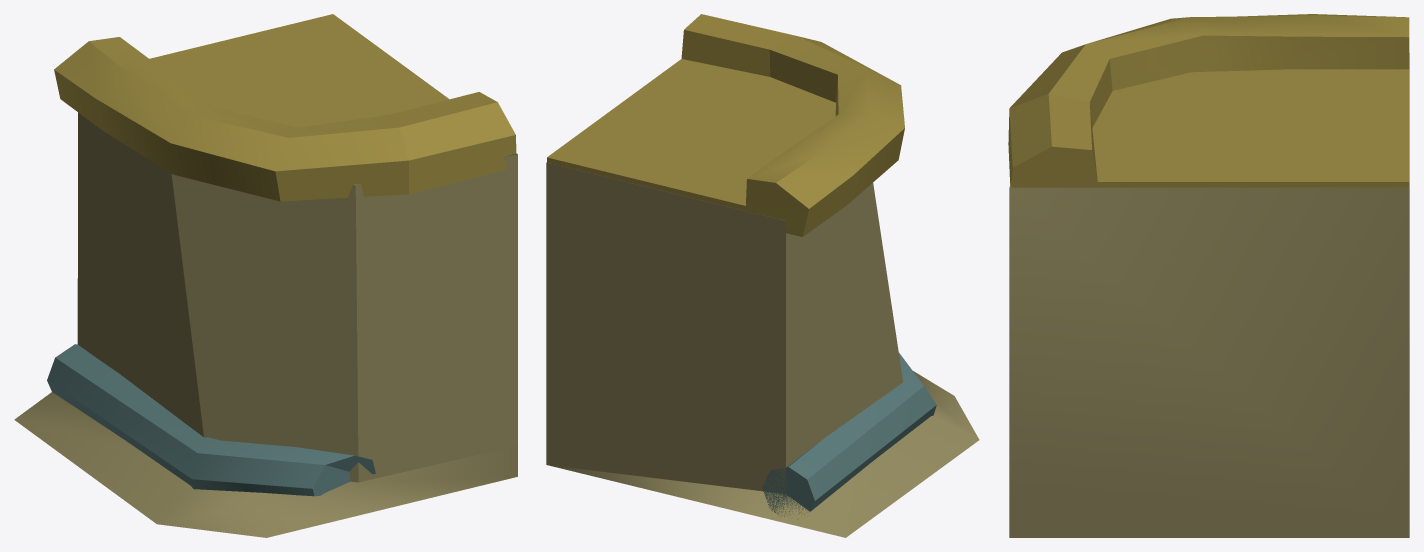
The model's file is Int_18_InnerWall_Right_Diagonal.fbx.
3 views of the same model, side by side, from view 1: azimuth 30°, elevation 25°; view 2: azimuth 150°, elevation 25°; view 3: azimuth 270°, elevation 25° (orthographic). The views are drawn at different scales.
Parts seen in each view (by area): view 1: Int_18_InnerWall_Right_Diagonal1; view 2: Int_18_InnerWall_Right_Diagonal1; view 3: Int_18_InnerWall_Right_Diagonal1.
Boxes of the visible parts, bbox=[...] form: Int_18_InnerWall_Right_Diagonal1: bbox=[14, 14, 517, 537]; Int_18_InnerWall_Right_Diagonal1: bbox=[546, 14, 979, 537]; Int_18_InnerWall_Right_Diagonal1: bbox=[1008, 14, 1409, 537].
Size of the model in its own units: 1 by 1.08 by 1.
